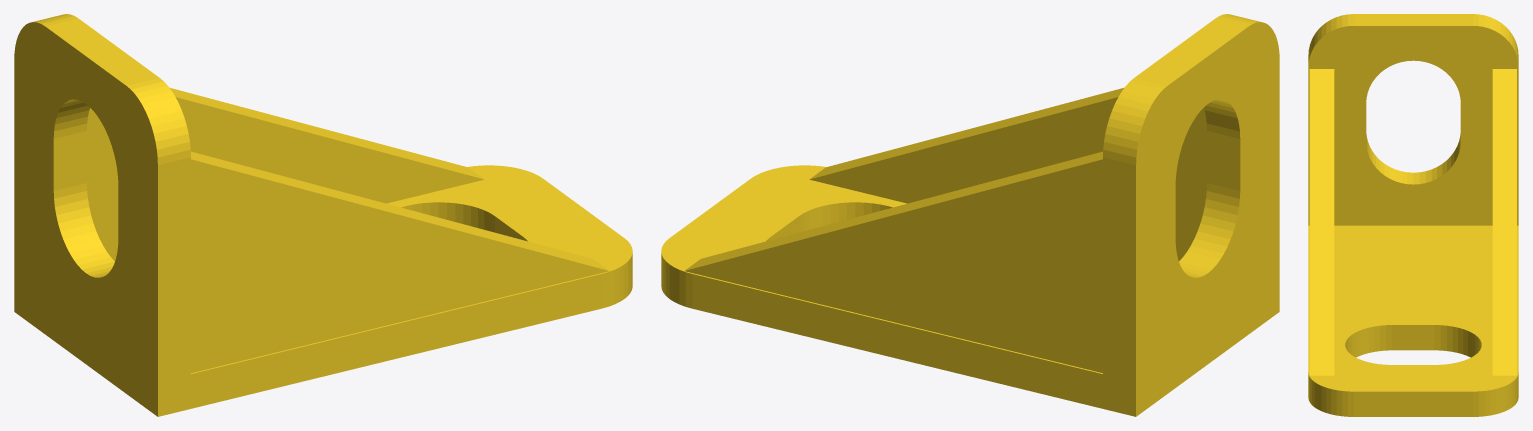
Rendered from openscad_shelf-drawer-bracket.glb.
3 views of the same model, side by side, from view 1: azimuth 30°, elevation 25°; view 2: azimuth 150°, elevation 25°; view 3: azimuth 270°, elevation 25° (orthographic). The views are drawn at different scales.
Visible parts, largest first — view 1: object; view 2: object; view 3: object.
Boxes of the visible parts, x1,y1,x2,y2 form: object: [14, 14, 632, 416]; object: [661, 14, 1279, 416]; object: [1308, 14, 1518, 416].
Size of the model in its own units: 30 by 17.75 by 15.
